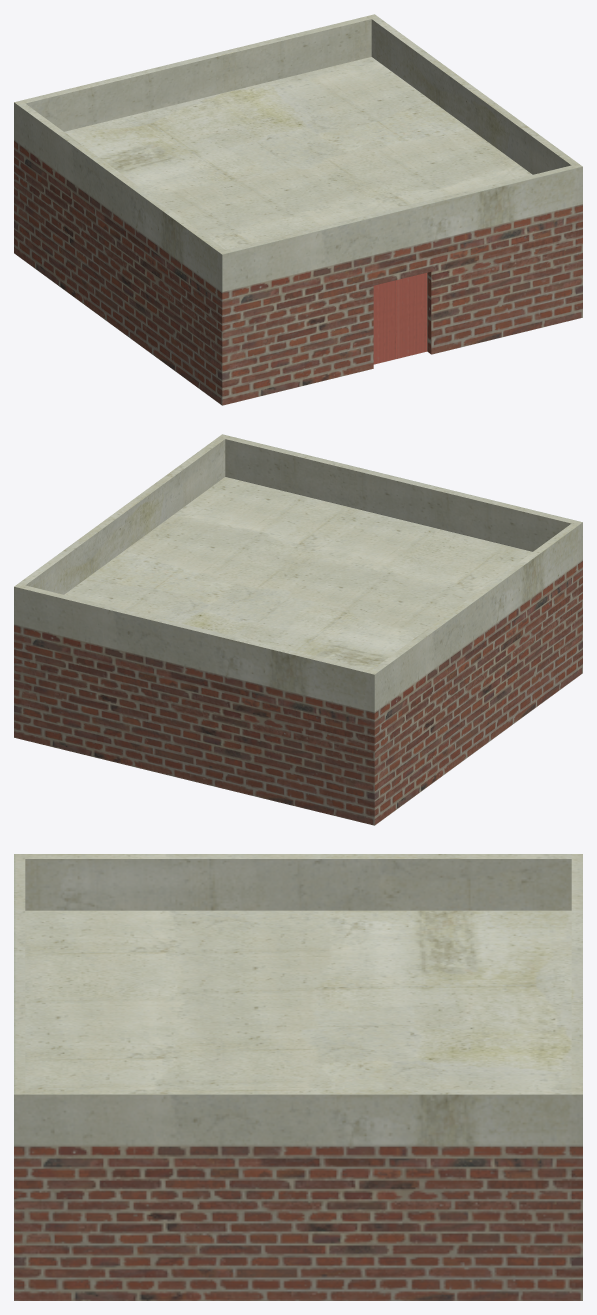
File: Test_TXT.fbx
The picture shows the model from 3 angles, top to bottom: view 1: azimuth 30°, elevation 25°; view 2: azimuth 150°, elevation 25°; view 3: azimuth 270°, elevation 25°; orthographic projection. The views are drawn at different scales.
Visible parts, largest first — view 1: Box001; view 2: Box001; view 3: Box001.
Boxes of the visible parts, x1,y1,x2,y2 form: Box001: [14, 14, 582, 405]; Box001: [14, 434, 582, 825]; Box001: [14, 854, 582, 1300].
Bounding box in the file's own units: 1000 × 1000 × 400.
